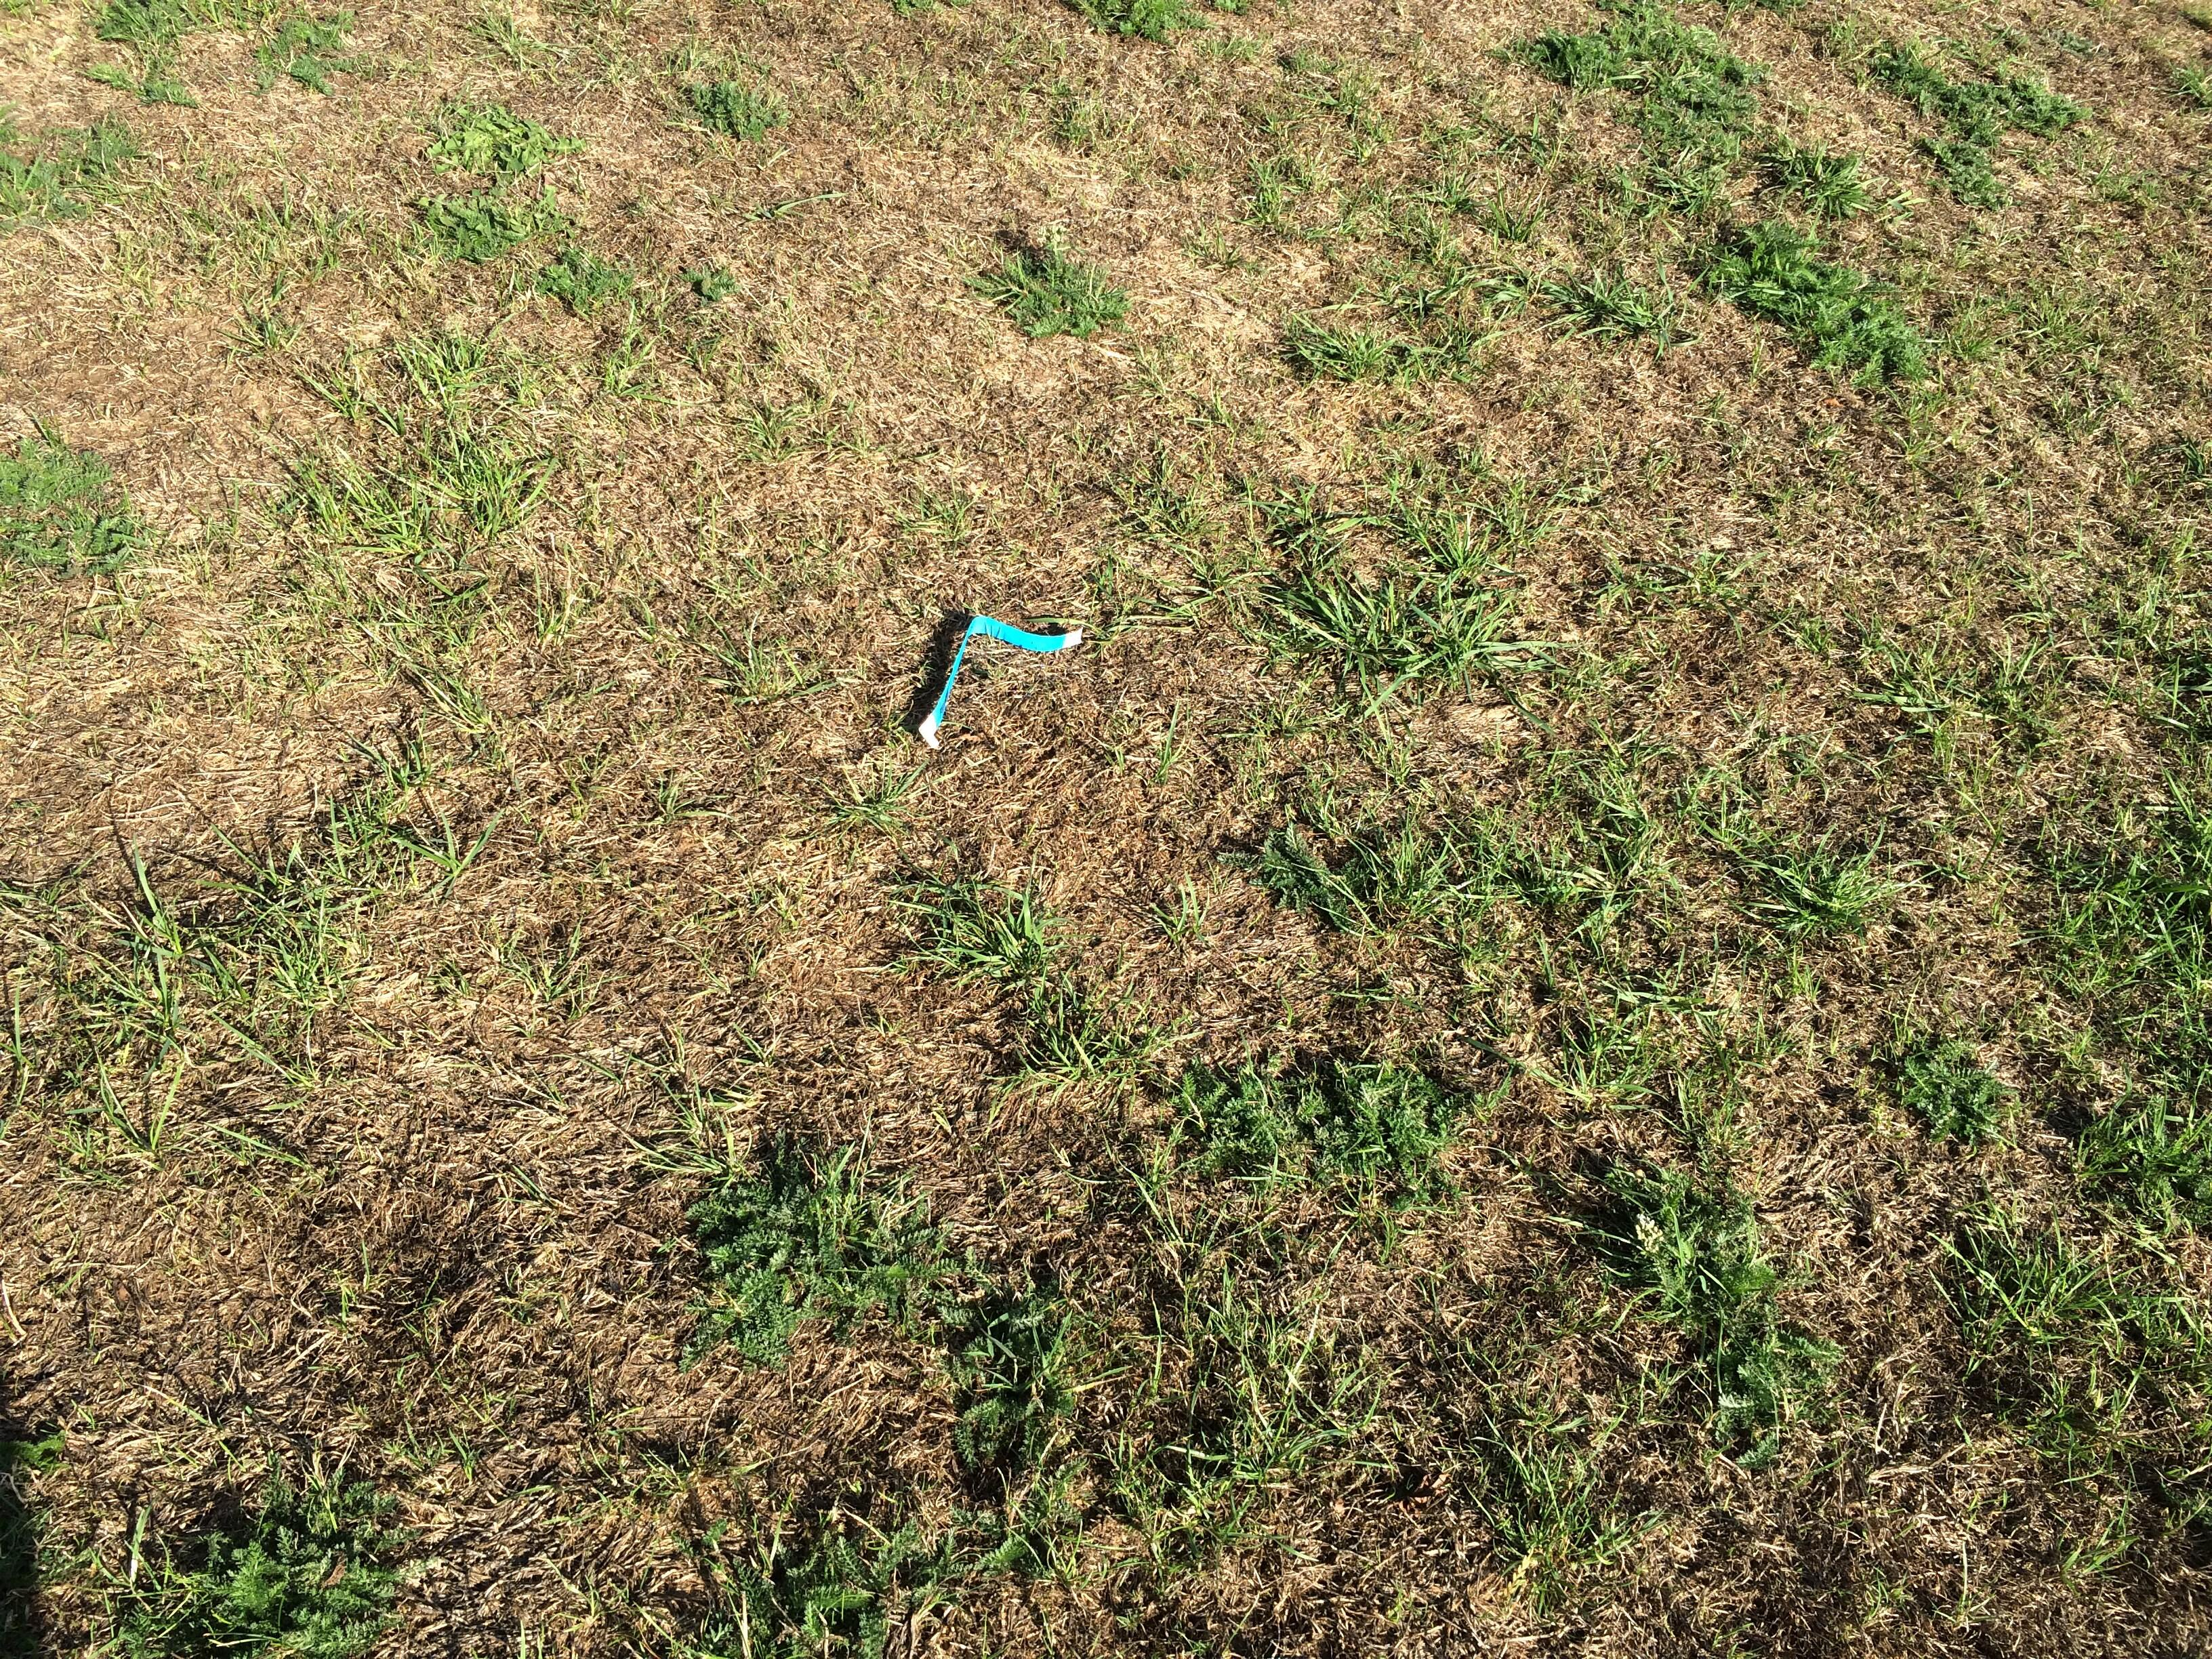Trash: (911, 613, 1087, 749)
